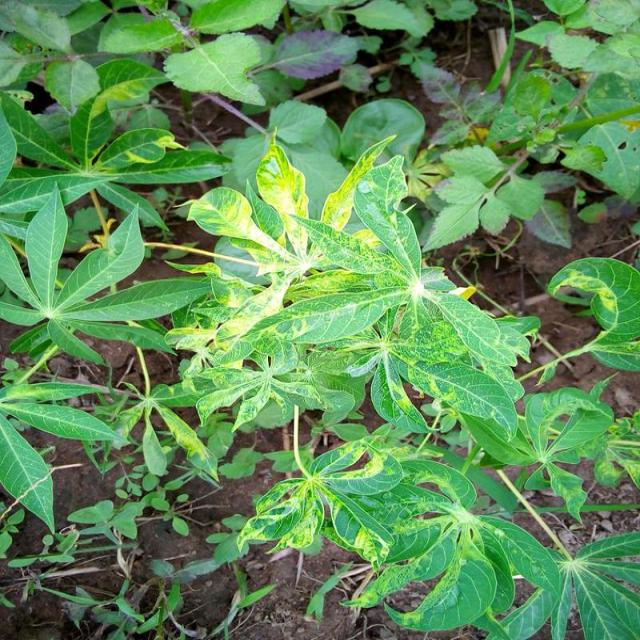cassava leaf: (169, 131, 536, 451)
